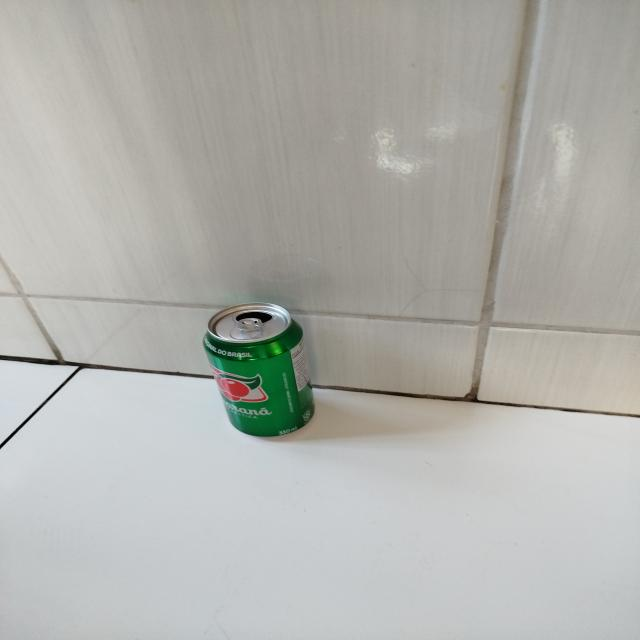Guarana: (202, 303, 314, 437)
